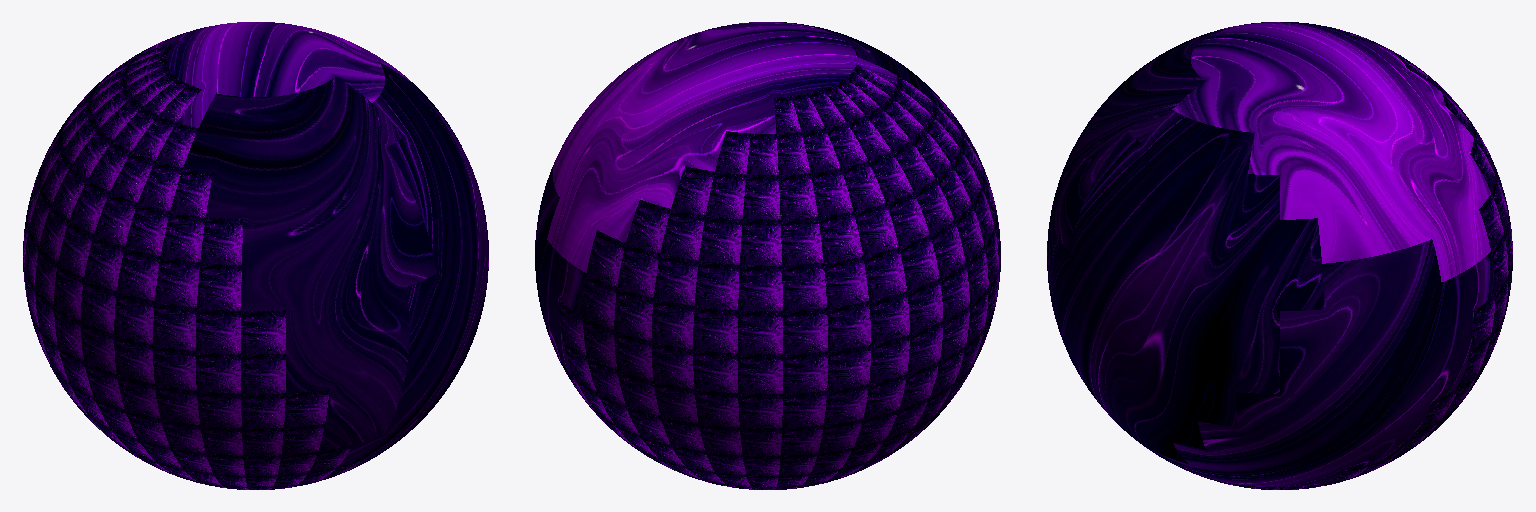
3 views of the same model, side by side, from view 1: azimuth 30°, elevation 25°; view 2: azimuth 150°, elevation 25°; view 3: azimuth 270°, elevation 25° (orthographic).
Parts seen in each view (by area): view 1: mars; view 2: mars; view 3: mars.
Part boxes in pixels (bbox=[...]): mars: bbox=[23, 22, 488, 489]; mars: bbox=[535, 22, 1000, 489]; mars: bbox=[1047, 22, 1512, 489].
Size of the model in its own units: 3.41 by 3.45 by 3.41.
Materials: 1 (1 with a texture image).